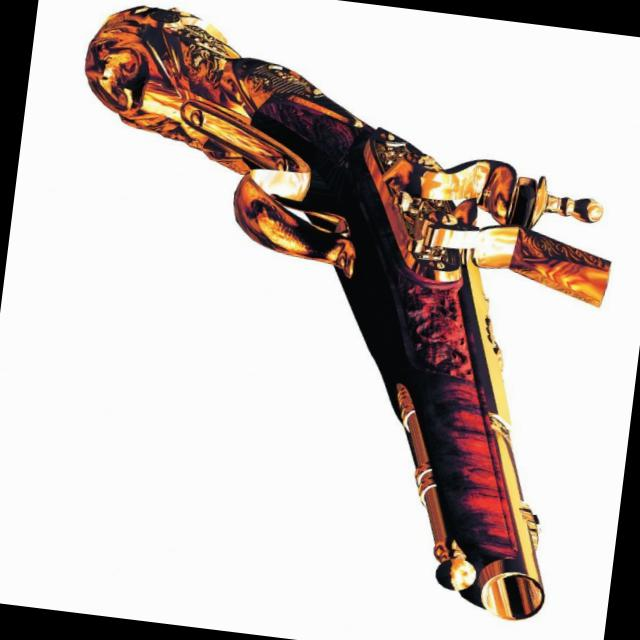handgun: (28, 0, 639, 628)
